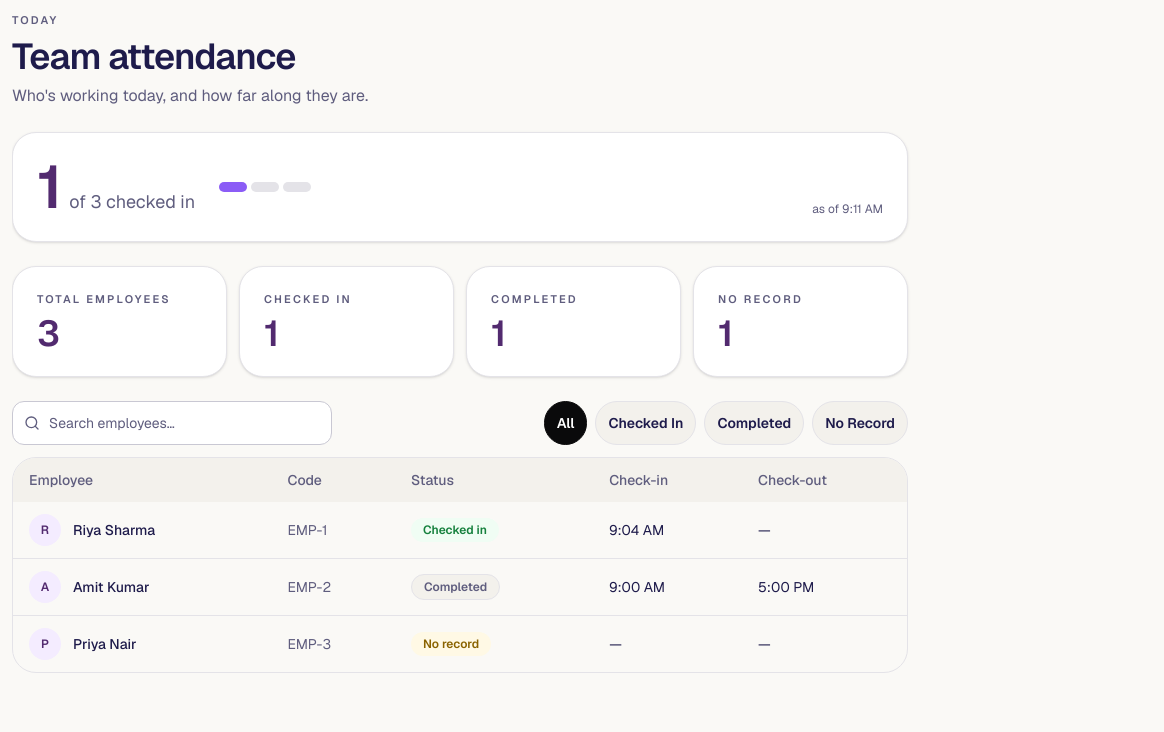
Test case: TeamPage (manager dashboard) › filters the list by status without issuing another request
The image size is (1164, 732).
Expected: the text "Riya Sharma" is shown, [73, 520, 155, 540]
What coordinates should you click on to do the following:
click the button "Completed"
I would click on:
 (754, 423)
Its box is [704, 401, 804, 445].
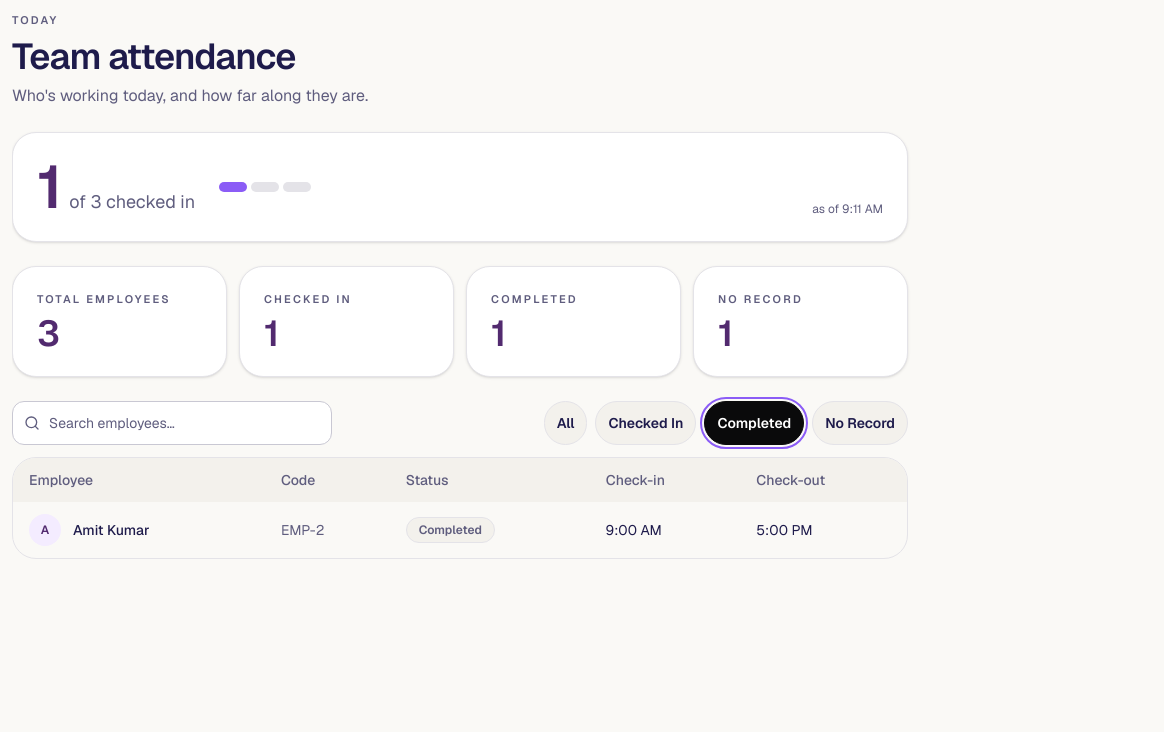
Expected: the text "Amit Kumar" is shown, [73, 520, 150, 540]
Expected: the button "Riya Sharma" is gone
Expected: the button "Priya Nair" is gone
